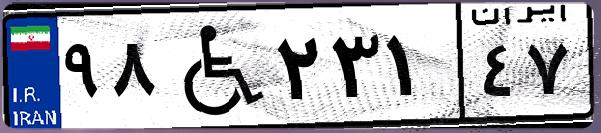1: (385, 28, 445, 110)
2: (270, 28, 330, 110)
3: (330, 28, 385, 110)
4: (475, 38, 525, 113)
7: (525, 38, 570, 115)
8: (110, 28, 158, 98)
9: (57, 26, 110, 100)
ژ (معلولین و جانبازان): (158, 12, 270, 120)
